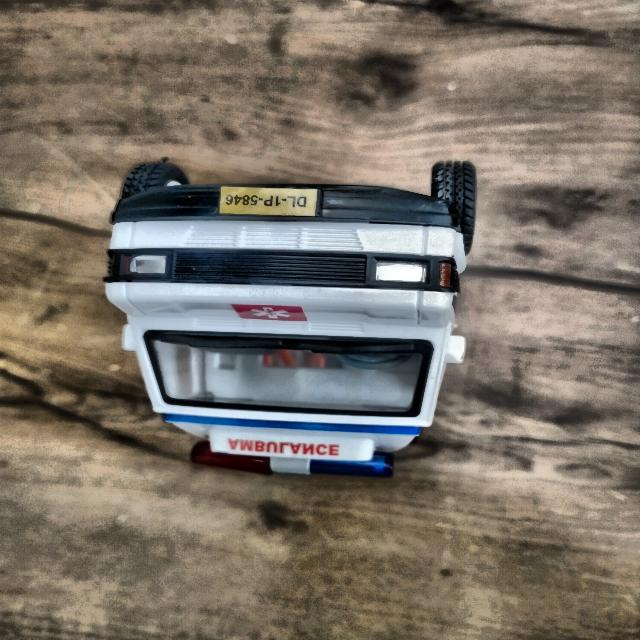Ambulance: (88, 149, 490, 515)
